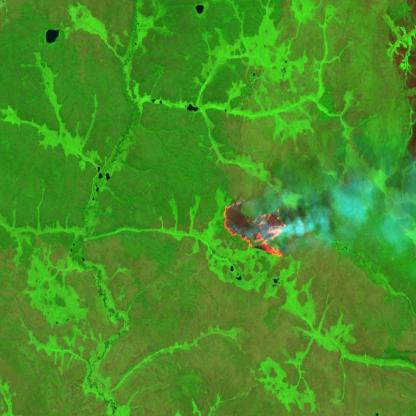fire: (221, 195, 288, 259)
